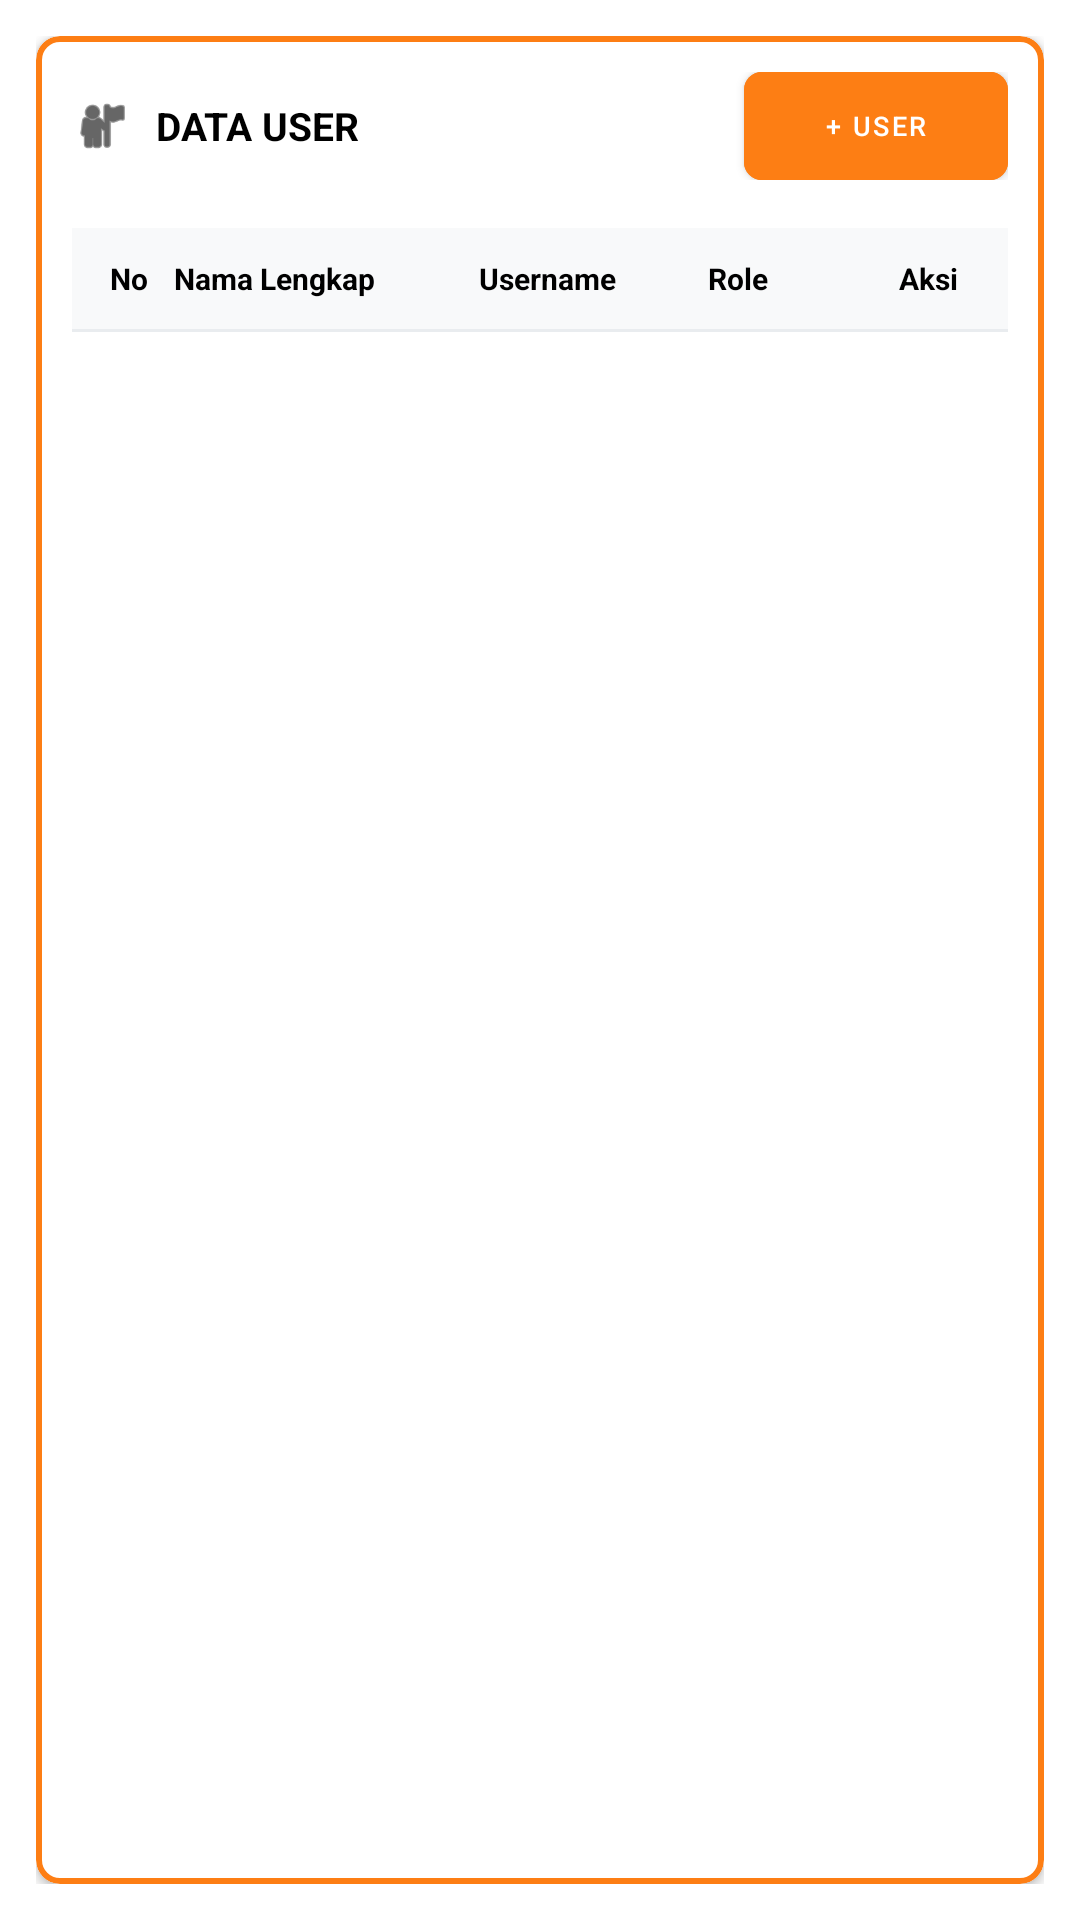

Icons on this 1080x1920 Android screen, each with its box as (x1, y1, x2, y2):
myplaces: (80, 104, 125, 148)
